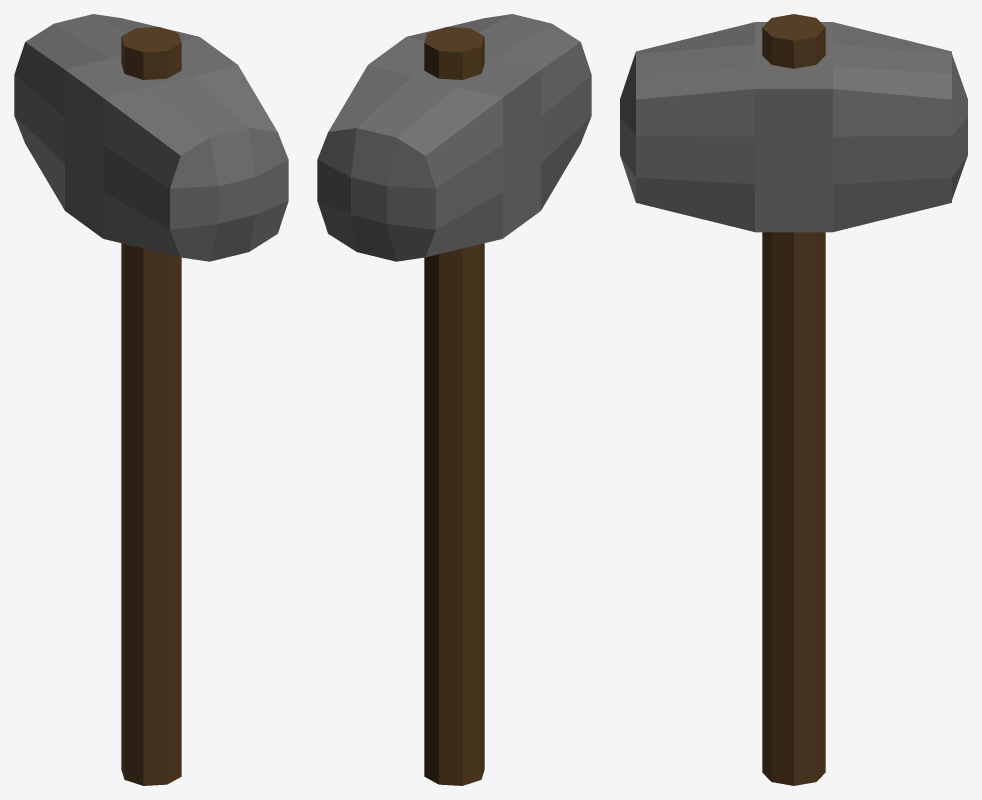
File: Hammer.fbx
The picture shows the model from 3 angles, left to right: view 1: azimuth 30°, elevation 25°; view 2: azimuth 150°, elevation 25°; view 3: azimuth 270°, elevation 25°; orthographic projection.
Visible parts, largest first — view 1: Hammer; view 2: Hammer; view 3: Hammer.
Boxes of the visible parts, x1,y1,x2,y2 form: Hammer: (14,14,288,785); Hammer: (317,14,591,785); Hammer: (620,14,967,785).
Size of the model in its own units: 10 by 52 by 22.
